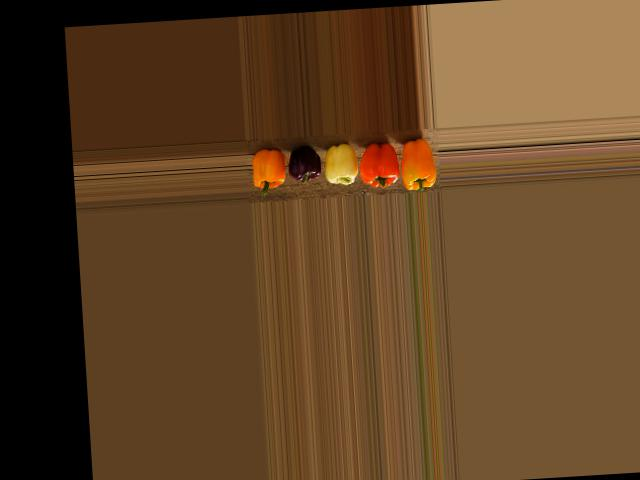bell_pepper: (247, 139, 284, 197)
